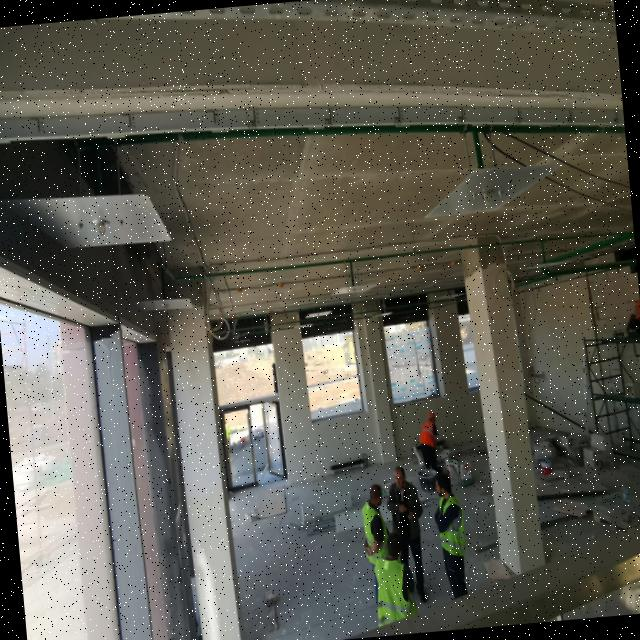Helmet: (427, 412, 438, 425)
NoHelmet: (434, 473, 455, 500), (386, 533, 405, 562), (393, 466, 409, 491), (369, 485, 385, 510)
